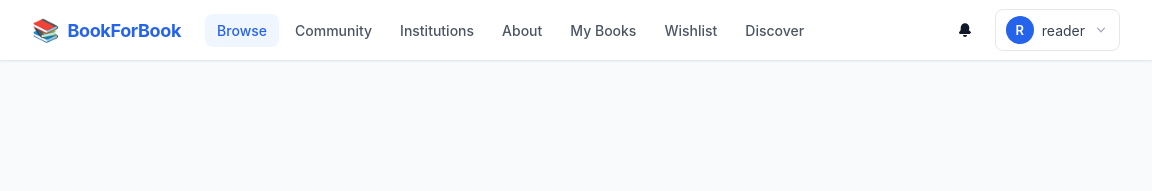
Scenario: Navbar › shows empty notifications message when no notifications
The width and height of the screenshot is (1152, 191).
What coordinates should you click on to do the following:
click the button named "notifications"
I would click on:
 (965, 30)
Its box is x1=948 y1=12 x2=983 y2=48.
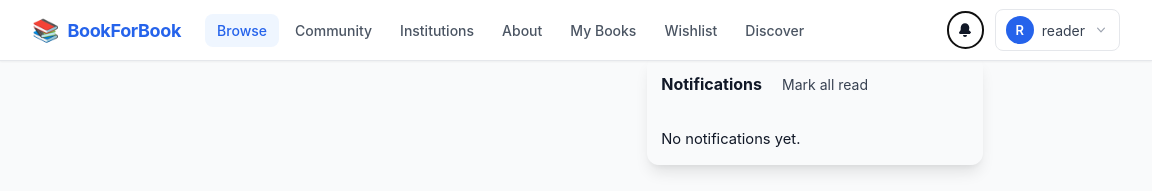
Check: the text "No notifications yet." is shown, box x1=661 y1=130 x2=800 y2=148
